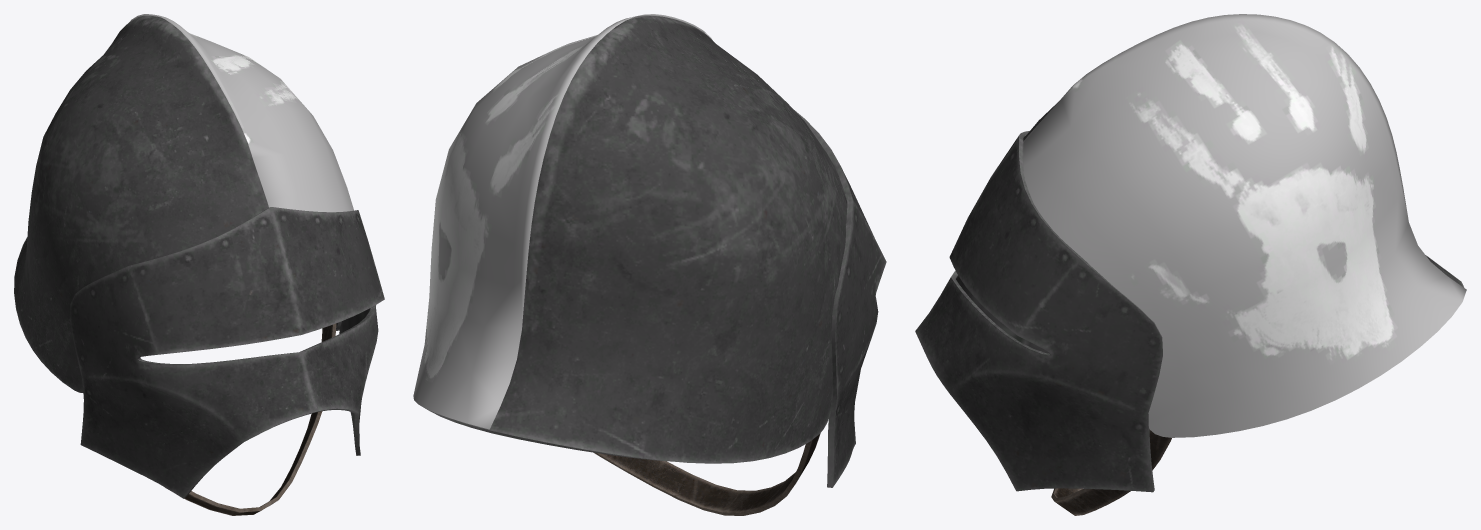
The model's file is sk_uruk_hai_helmet_sword_light_a3.fbx.
The picture shows the model from 3 angles, left to right: view 1: azimuth 30°, elevation 25°; view 2: azimuth 150°, elevation 25°; view 3: azimuth 270°, elevation 25°; orthographic projection. The views are drawn at different scales.
Parts seen in each view (by area): view 1: sk_uruk_hai_helmet_sword_light_a3.2, sk_uruk_hai_helmet_sword_light_a3.0, sk_uruk_hai_helmet_sword_light_a3.1; view 2: sk_uruk_hai_helmet_sword_light_a3.2, sk_uruk_hai_helmet_sword_light_a3.0, sk_uruk_hai_helmet_sword_light_a3.1; view 3: sk_uruk_hai_helmet_sword_light_a3.0, sk_uruk_hai_helmet_sword_light_a3.2, sk_uruk_hai_helmet_sword_light_a3.1.
Boxes of the visible parts, box(x1,y1,x2,y2) form: sk_uruk_hai_helmet_sword_light_a3.2: box(14, 15, 384, 498); sk_uruk_hai_helmet_sword_light_a3.0: box(128, 14, 353, 330); sk_uruk_hai_helmet_sword_light_a3.1: box(166, 323, 336, 515); sk_uruk_hai_helmet_sword_light_a3.2: box(427, 16, 886, 487); sk_uruk_hai_helmet_sword_light_a3.0: box(413, 14, 712, 429); sk_uruk_hai_helmet_sword_light_a3.1: box(594, 433, 820, 515); sk_uruk_hai_helmet_sword_light_a3.0: box(1023, 14, 1466, 437); sk_uruk_hai_helmet_sword_light_a3.2: box(915, 102, 1464, 492); sk_uruk_hai_helmet_sword_light_a3.1: box(1051, 430, 1171, 515).
Bounding box in the file's own units: 0.2086 × 0.3202 × 0.3161.
3 materials, 3 textured.
